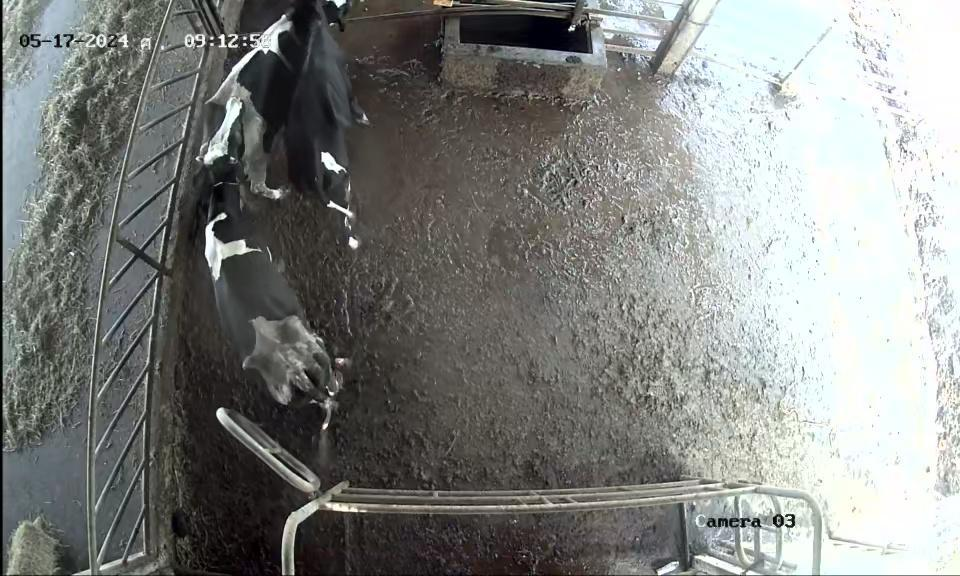propping: (187, 75, 265, 228)
stand: (291, 0, 376, 240), (209, 4, 287, 197)
